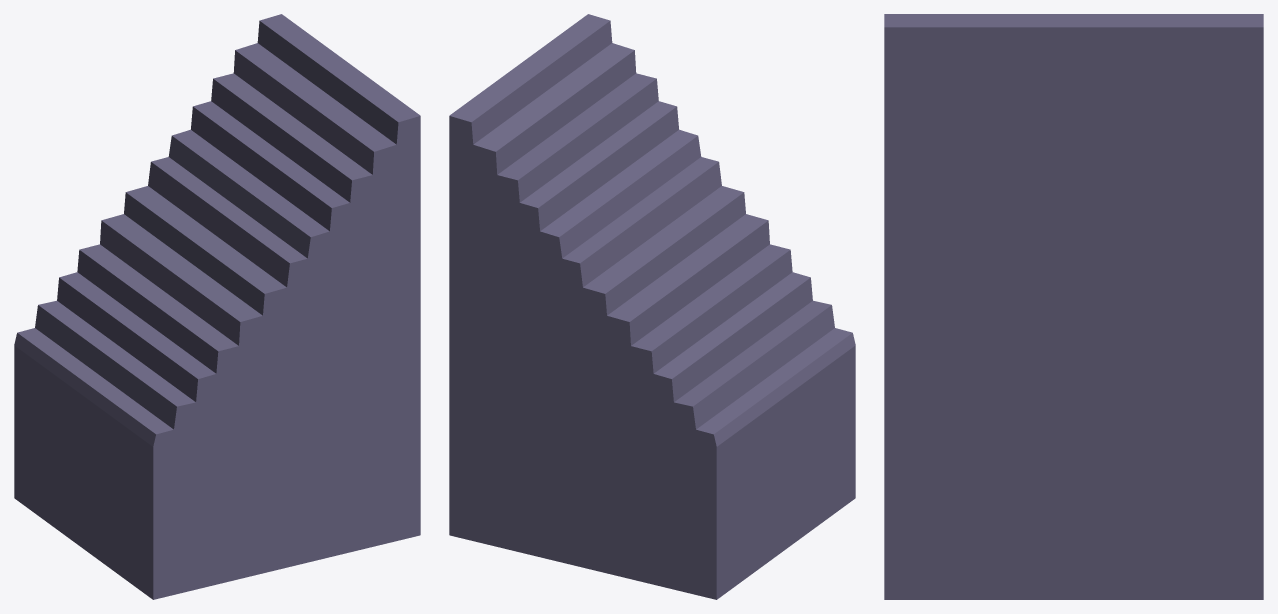
The model's file is b_stairs_xpos.fbx.
3 views of the same model, side by side, from view 1: azimuth 30°, elevation 25°; view 2: azimuth 150°, elevation 25°; view 3: azimuth 270°, elevation 25° (orthographic). The views are drawn at different scales.
Visible parts, largest first — view 1: Cube.041; view 2: Cube.041; view 3: Cube.041.
Boxes of the visible parts, x1=… form: Cube.041: x1=14, y1=14, x2=420, y2=599; Cube.041: x1=449, y1=14, x2=855, y2=599; Cube.041: x1=884, y1=14, x2=1263, y2=599.
Size of the model in its own units: 200 by 300 by 180.
